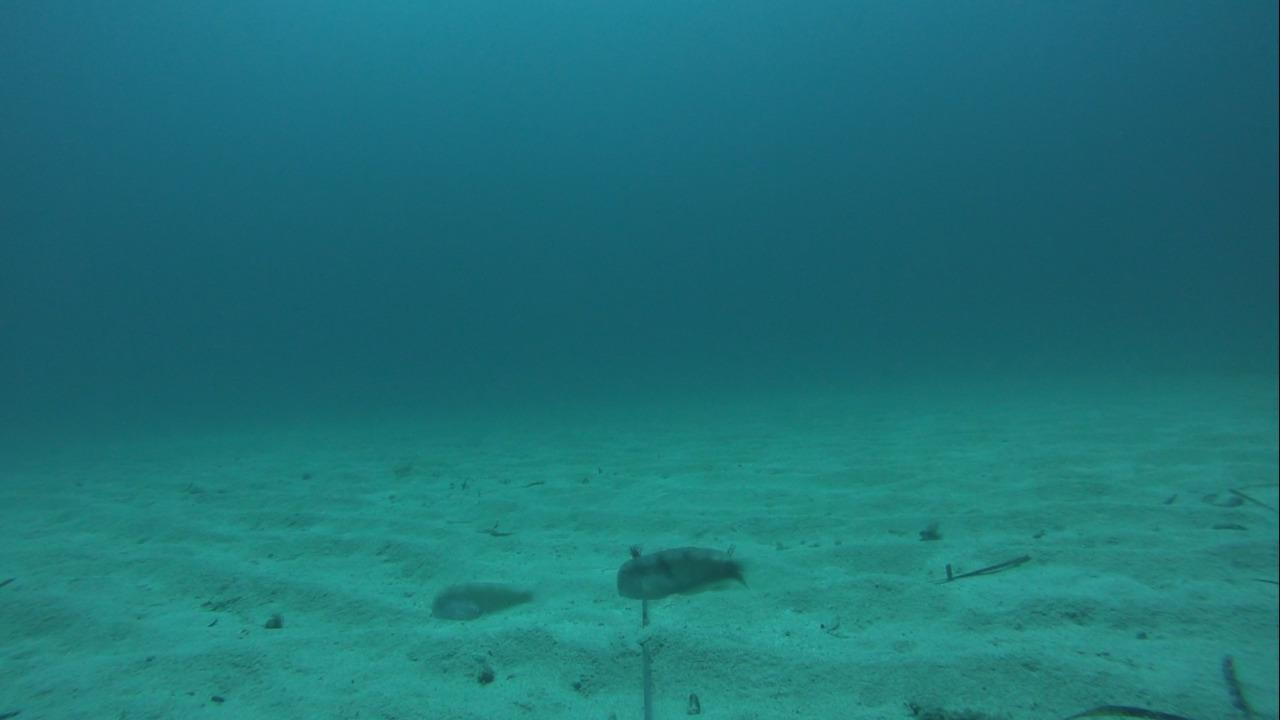raor: (612, 542, 752, 605), (425, 577, 538, 624)
